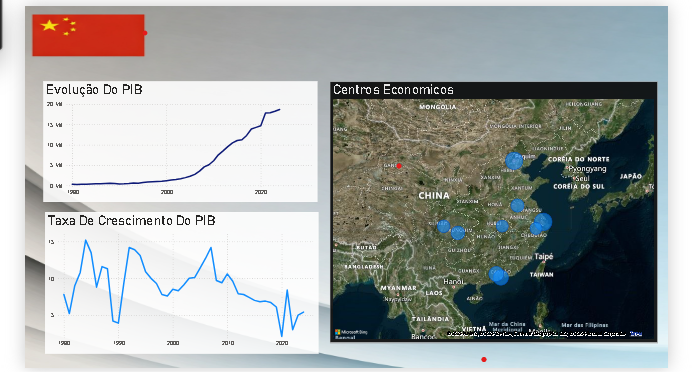

What the dashboard file says about the page in this screenshot:
{"tool":"powerbi","page":{"name":"Página 1","canvas":[1280,720],"ordinal":0},"visuals":[{"type":"lineChart","title":"Evolução Do PIB","fields":{"Category":["tabelapib.Ano"],"Y":["Sum(tabelapib.Pib)"]},"box":[37.5,150,545,240],"z":0},{"type":"lineChart","title":"Taxa De Crescimento Do PIB","fields":{"Category":["tabelapib.Ano"],"Y":["Sum(tabelapib.Taxa de Crescimento)"]},"box":[38.6,408.8,543.8,281.6],"z":1000},{"type":"map","title":"Centros Economicos","fields":{"Category":["Cidades.Cidade"],"Size":["Sum(Cidades.PIB da Região)"]},"box":[607.5,150,652.5,520],"z":2000}]}

Visuals, with their boxes on the page's 1280x720 design canvas (x1, y1, x2, y2). These are canvas units, not pixel positions in the 698x372 screenshot, which may show the page scaled, cropped or inside an application window:
"Evolução Do PIB" lineChart: detection(38, 150, 582, 390)
"Taxa De Crescimento Do PIB" lineChart: detection(39, 409, 582, 690)
"Centros Economicos" map: detection(608, 150, 1260, 670)
